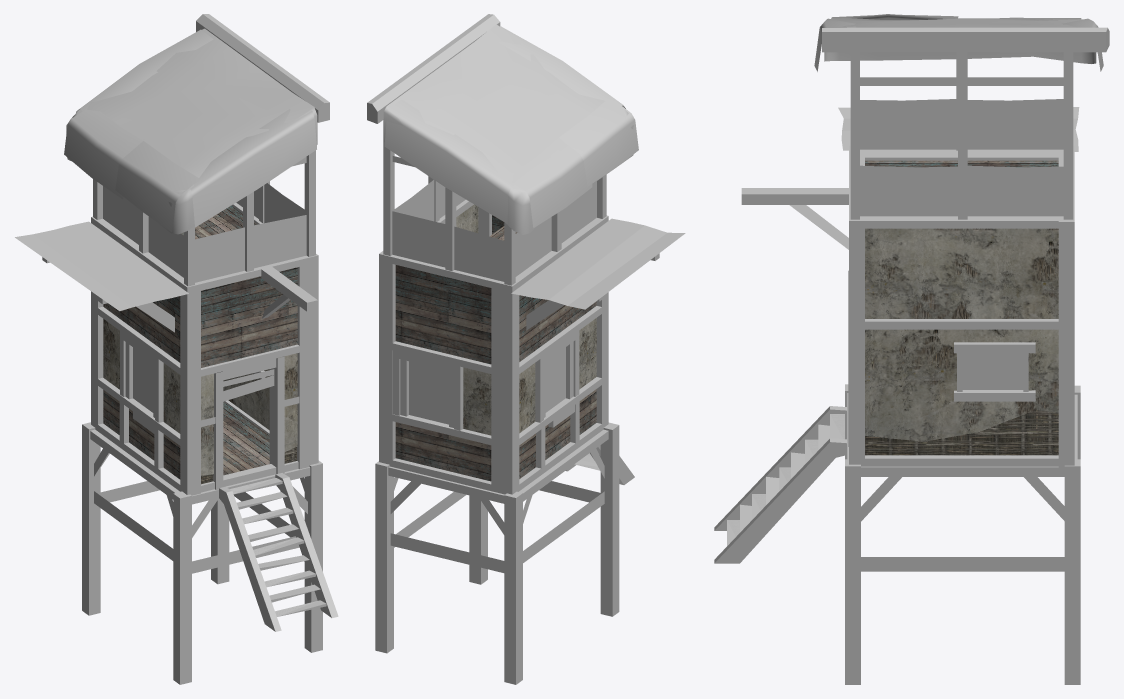
The model's file is Tower2_LOD2.fbx.
The picture shows the model from 3 angles, left to right: view 1: azimuth 30°, elevation 25°; view 2: azimuth 150°, elevation 25°; view 3: azimuth 270°, elevation 25°; orthographic projection. The views are drawn at different scales.
Visible parts, largest first — view 1: Base, Stairs; view 2: Base, Stairs; view 3: Base, Stairs.
Part boxes in pixels (x1,y1,x2,y2): Base: [15, 14, 329, 684]; Stairs: [219, 473, 338, 631]; Base: [367, 14, 685, 684]; Stairs: [565, 445, 634, 484]; Base: [741, 14, 1109, 684]; Stairs: [714, 406, 847, 563].
Size of the model in its own units: 5.31 by 13.49 by 7.41.
